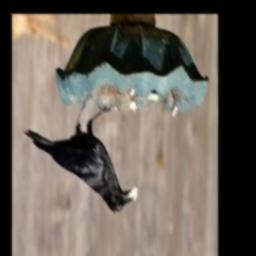Crow: (23, 96, 137, 214)
